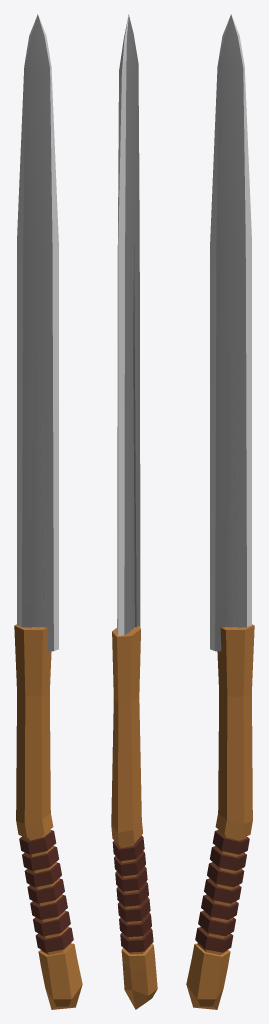
File: Axe10.glb
3 renders of one model, left to right at view 1: azimuth 90°, elevation 25°; view 2: azimuth 150°, elevation 25°; view 3: azimuth 270°, elevation 25°, orthographic.
Visible parts, largest first — view 1: weapon_generator; view 2: weapon_generator; view 3: weapon_generator.
Part boxes in pixels (x1=…): weapon_generator: x1=14, y1=14, x2=82, y2=1009; weapon_generator: x1=111, y1=14, x2=157, y2=1009; weapon_generator: x1=186, y1=14, x2=254, y2=1009.
Size of the model in its own units: 0.0263 by 1.05 by 0.0656.
